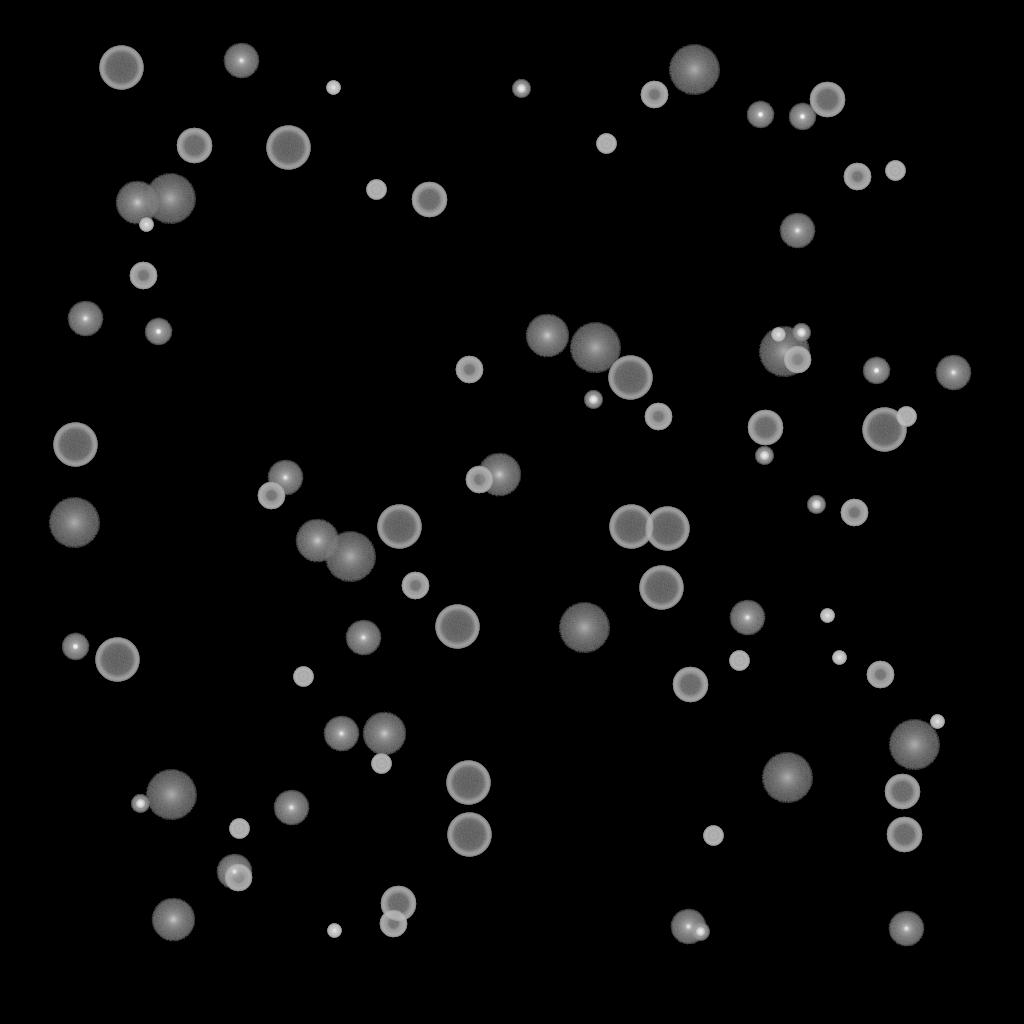depth:-10: (862, 357, 890, 385), (746, 101, 774, 129), (788, 103, 816, 131), (61, 633, 89, 661), (144, 318, 172, 346)
depth:-20: (755, 447, 773, 465), (691, 923, 709, 941), (584, 391, 602, 409), (807, 496, 825, 514), (512, 80, 530, 98), (792, 324, 810, 342), (131, 795, 149, 813)
depth:-30: (832, 651, 846, 665), (326, 81, 340, 95), (327, 924, 341, 938), (820, 609, 834, 623), (139, 218, 153, 232), (771, 328, 785, 342), (930, 715, 944, 729)
depth:-40: (366, 180, 386, 200), (729, 651, 749, 671), (229, 819, 249, 839), (293, 667, 313, 687), (371, 754, 391, 774), (596, 134, 616, 154), (896, 407, 916, 427), (703, 826, 723, 846), (885, 161, 905, 181)
depth:-50: (783, 346, 811, 374), (840, 499, 868, 527), (465, 466, 493, 494), (843, 163, 871, 191), (866, 661, 894, 689), (455, 356, 483, 384), (644, 403, 672, 431), (379, 910, 407, 938), (129, 262, 157, 290), (401, 572, 429, 600), (224, 864, 252, 892), (257, 482, 285, 510), (640, 81, 668, 109)
depth:-60: (411, 182, 447, 218), (886, 817, 922, 853), (672, 667, 708, 703), (747, 410, 783, 446), (809, 82, 845, 118), (884, 774, 920, 810), (380, 886, 416, 922), (176, 128, 212, 164)
depth:-70: (53, 423, 97, 467), (862, 408, 906, 452), (266, 126, 310, 170), (639, 566, 683, 610), (608, 356, 652, 400), (377, 505, 421, 549), (435, 605, 479, 649), (447, 813, 491, 857), (446, 761, 490, 805), (609, 505, 653, 549), (645, 507, 689, 551), (99, 46, 143, 90), (95, 638, 139, 682)
depth:0: (779, 213, 815, 249), (729, 600, 765, 636), (935, 355, 971, 391), (670, 909, 706, 945), (888, 911, 924, 947), (216, 854, 252, 890), (67, 301, 103, 337), (323, 716, 359, 752), (273, 790, 309, 826), (223, 43, 259, 79), (345, 620, 381, 656), (267, 460, 303, 496)
depth:10: (295, 519, 339, 563), (151, 898, 195, 942), (362, 712, 406, 756), (477, 453, 521, 497), (525, 314, 569, 358), (115, 181, 159, 225)
depth:20: (668, 45, 720, 95), (144, 174, 196, 224), (761, 753, 813, 803), (558, 603, 610, 653), (569, 323, 621, 373), (145, 770, 197, 820), (888, 720, 940, 770), (758, 327, 810, 377), (324, 532, 376, 582), (48, 498, 100, 548)
